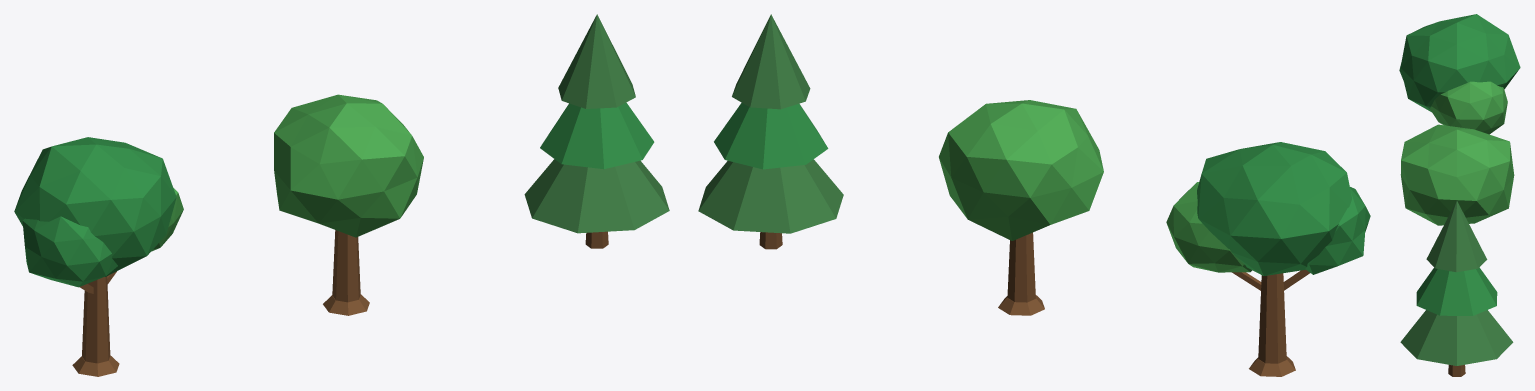
Rendered from pohon_v001.glb.
3 views of the same model, side by side, from view 1: azimuth 30°, elevation 25°; view 2: azimuth 150°, elevation 25°; view 3: azimuth 270°, elevation 25° (orthographic). The views are drawn at different scales.
Parts seen in each view (by area): view 1: Pohon_Bulat_A, Pohon_Bulat_B, Pohon_Cemara; view 2: Pohon_Bulat_A, Pohon_Bulat_B, Pohon_Cemara; view 3: Pohon_Bulat_A, Pohon_Cemara, Pohon_Bulat_B.
Boxes of the visible parts, bbox=[...] form: Pohon_Bulat_A: bbox=[14, 137, 183, 376]; Pohon_Bulat_B: bbox=[274, 94, 423, 315]; Pohon_Cemara: bbox=[524, 14, 669, 248]; Pohon_Bulat_A: bbox=[1166, 142, 1370, 376]; Pohon_Bulat_B: bbox=[939, 100, 1103, 315]; Pohon_Cemara: bbox=[698, 14, 843, 249]; Pohon_Bulat_A: bbox=[1399, 14, 1520, 134]; Pohon_Cemara: bbox=[1400, 200, 1513, 376]; Pohon_Bulat_B: bbox=[1400, 124, 1514, 225].
Bounding box in the file's own units: 12.88 × 4.4 × 2.78.
